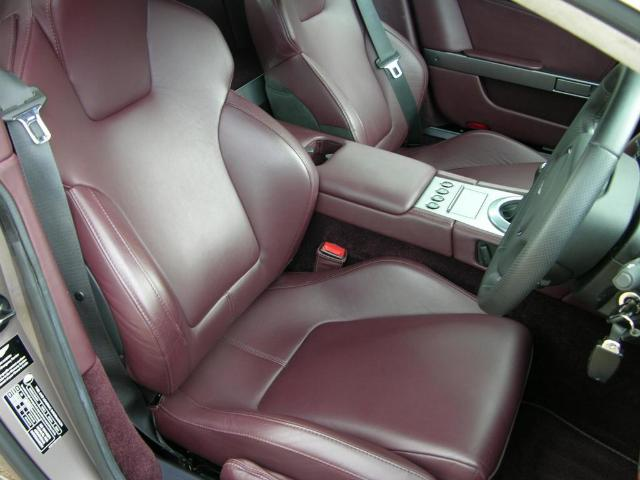Seatbelt: (0, 68, 184, 456), (356, 0, 424, 144)
